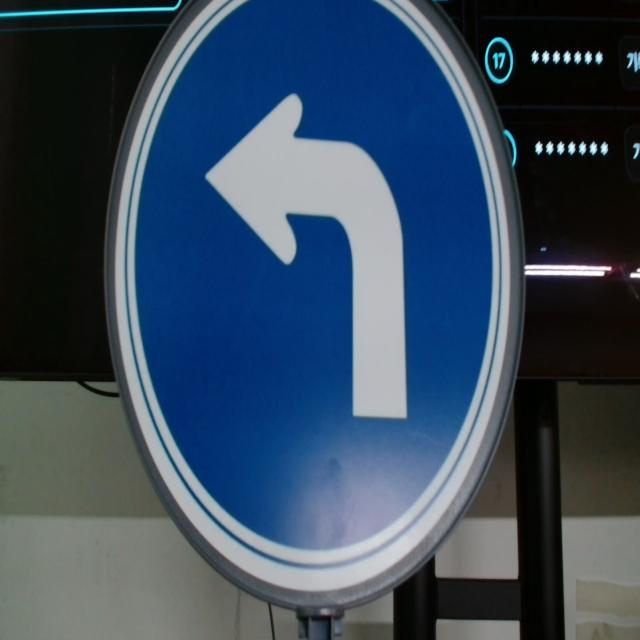left_direction: (103, 2, 528, 610)
